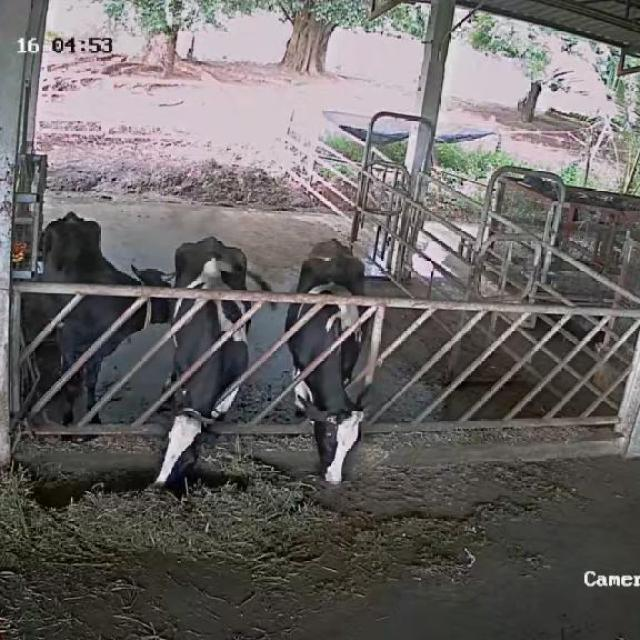feeding: (152, 232, 262, 490), (284, 235, 387, 492)
standing: (39, 208, 184, 443)
